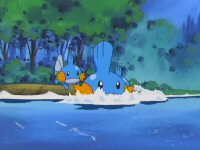mudkip: (74, 40, 136, 102), (52, 54, 83, 91)
